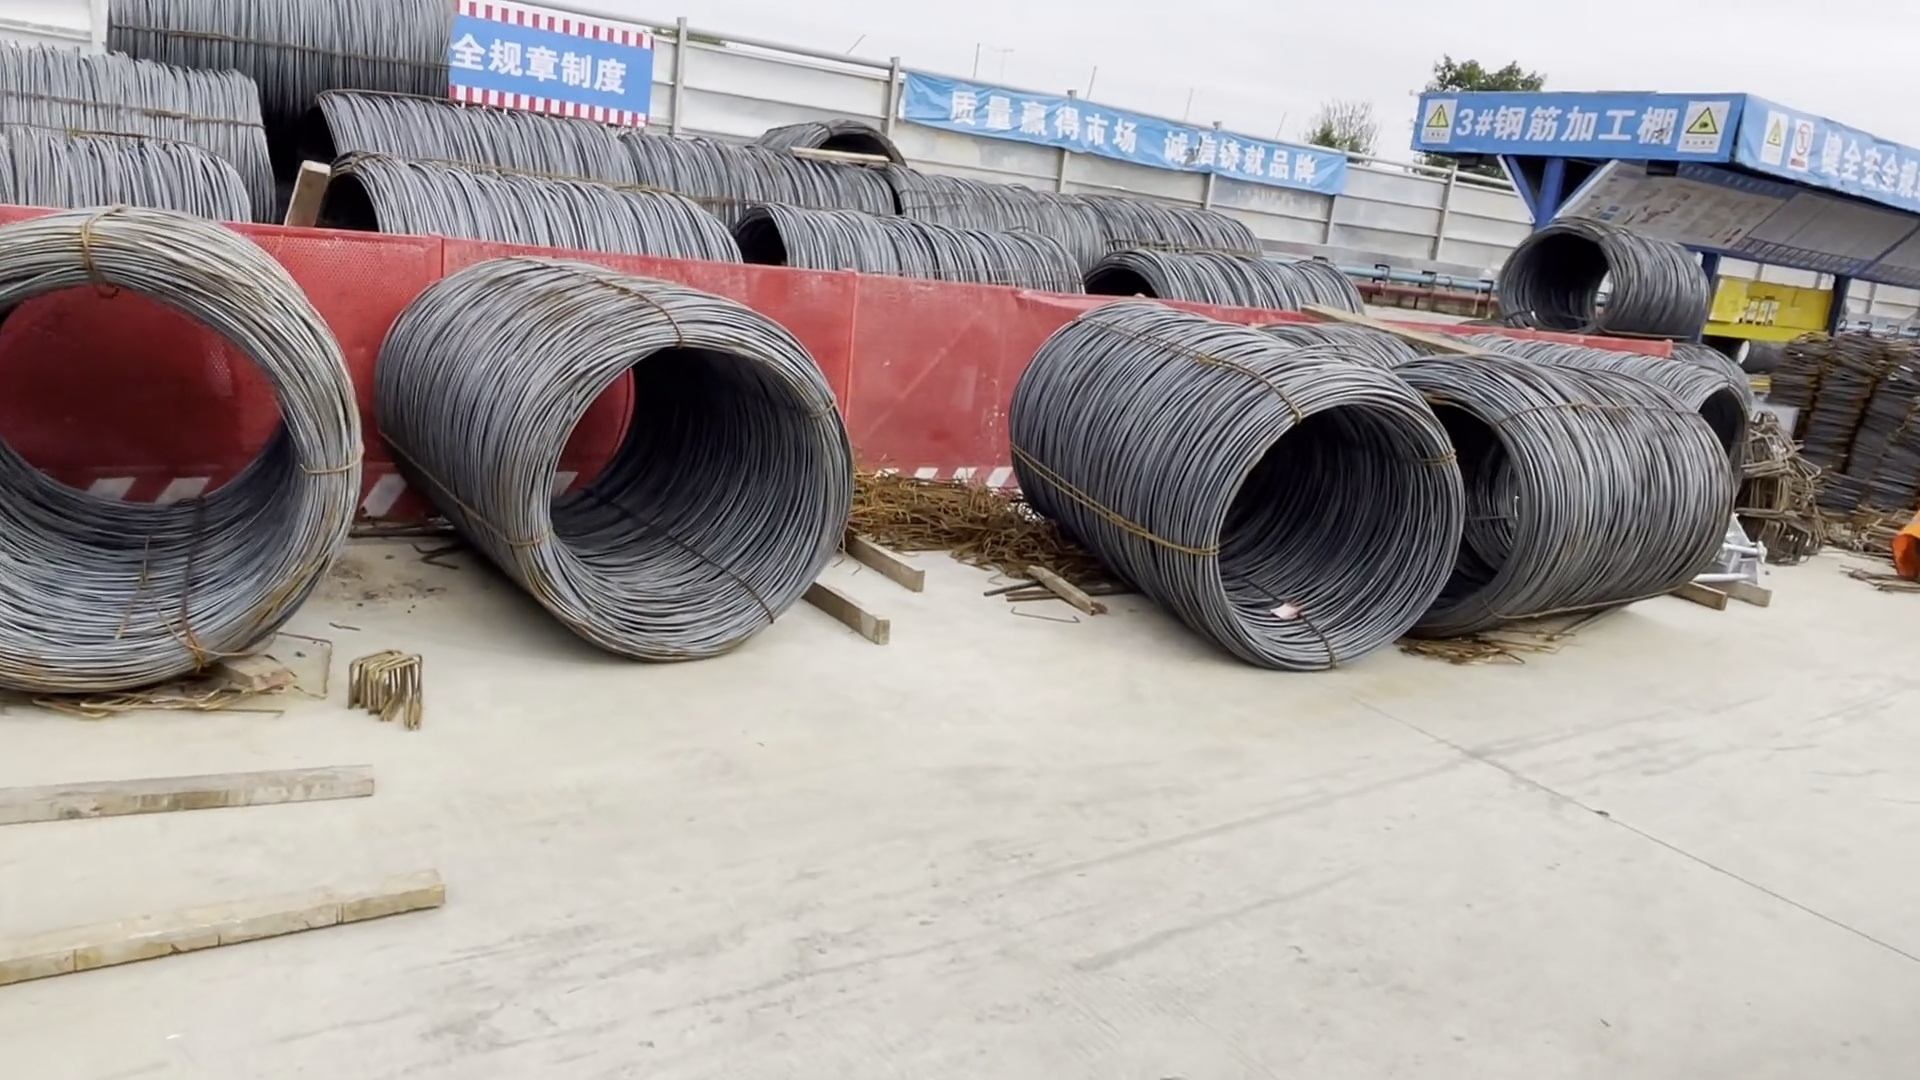fence: (640, 67, 1407, 295)
slogan: (905, 90, 1331, 179), (1455, 86, 1725, 150), (448, 21, 617, 100), (1755, 119, 1920, 189)
